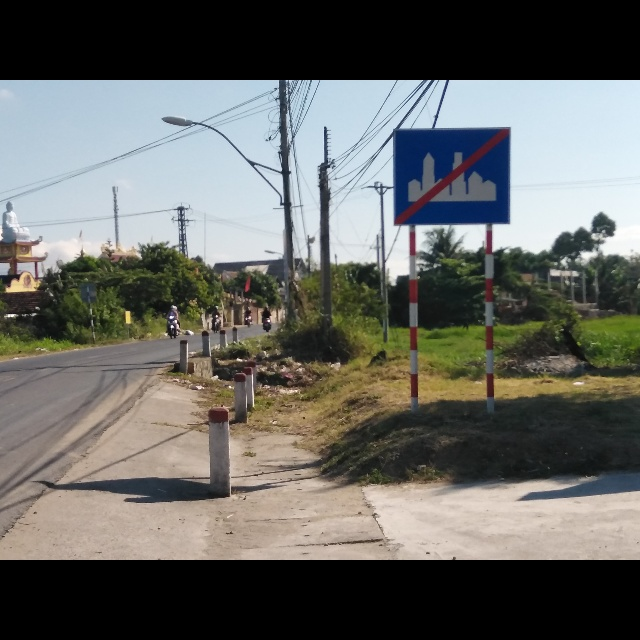Hết khu đông dân cư: (393, 126, 512, 229)
